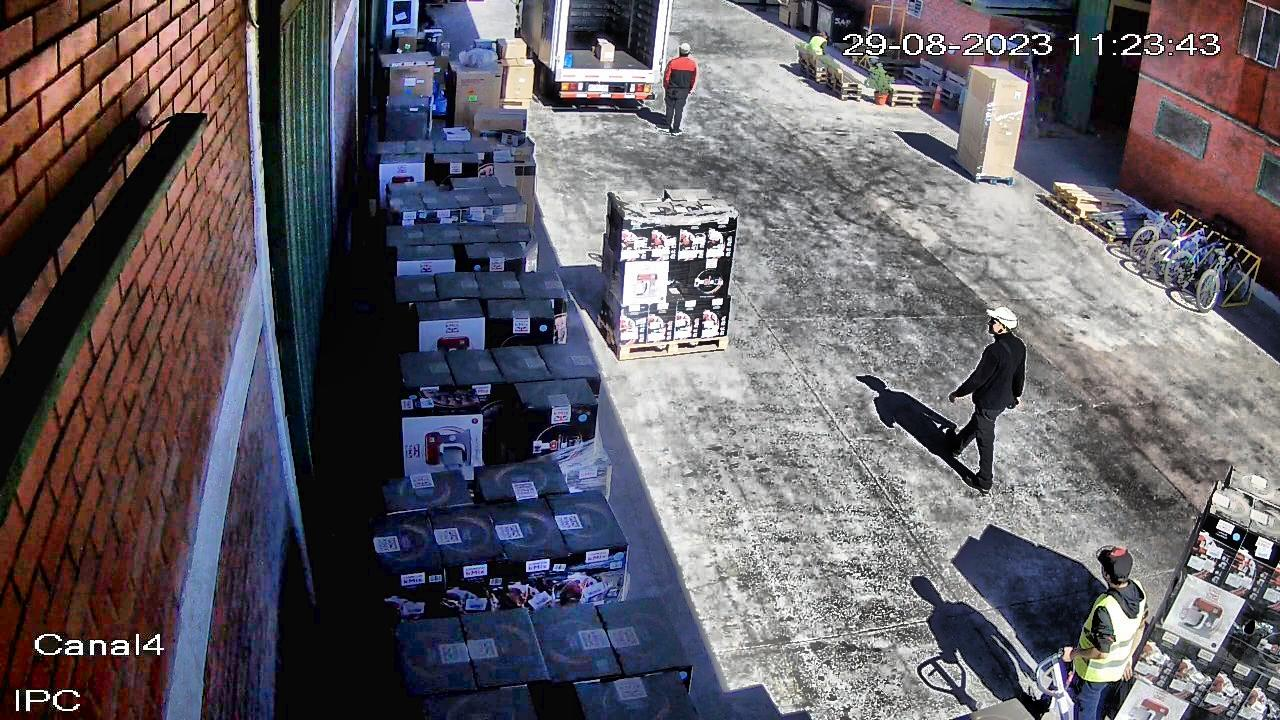con-casco: (982, 304, 1021, 334), (673, 41, 696, 58)
con-chaleco: (1068, 577, 1150, 684), (807, 35, 828, 57)
persona: (1038, 537, 1181, 720), (934, 301, 1035, 499), (651, 40, 703, 140), (805, 30, 831, 75)
sin-casco: (1093, 543, 1134, 589), (819, 31, 830, 40)
sin-chaleco: (968, 334, 1028, 415), (659, 56, 699, 95)
